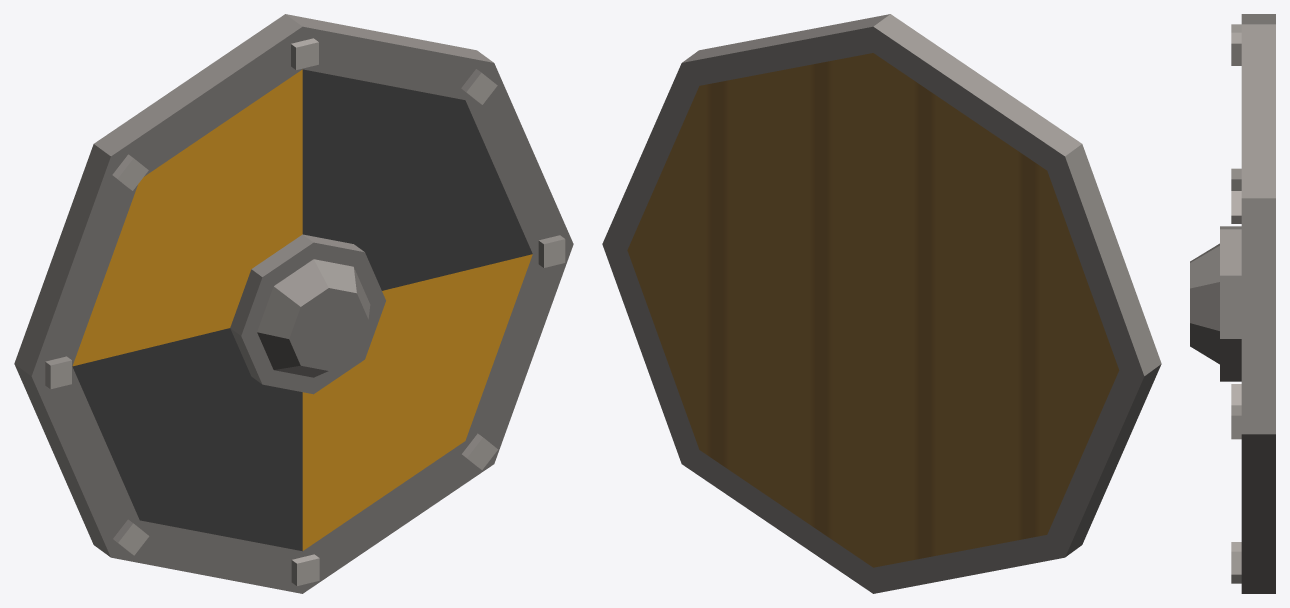
The model's file is SF_Wep_RoundShield_Pattern_05.fbx.
The picture shows the model from 3 angles, left to right: view 1: azimuth 30°, elevation 25°; view 2: azimuth 150°, elevation 25°; view 3: azimuth 270°, elevation 25°; orthographic projection.
Parts seen in each view (by area): view 1: SF_Wep_RoundShield_Pattern_05; view 2: SF_Wep_RoundShield_Pattern_05; view 3: SF_Wep_RoundShield_Pattern_05.
Part boxes in pixels (x1=…): SF_Wep_RoundShield_Pattern_05: x1=14, y1=14, x2=573, y2=593; SF_Wep_RoundShield_Pattern_05: x1=602, y1=14, x2=1161, y2=593; SF_Wep_RoundShield_Pattern_05: x1=1190, y1=14, x2=1275, y2=593.
Bounding box in the file's own units: 1.4 × 1.4 × 0.1946.
